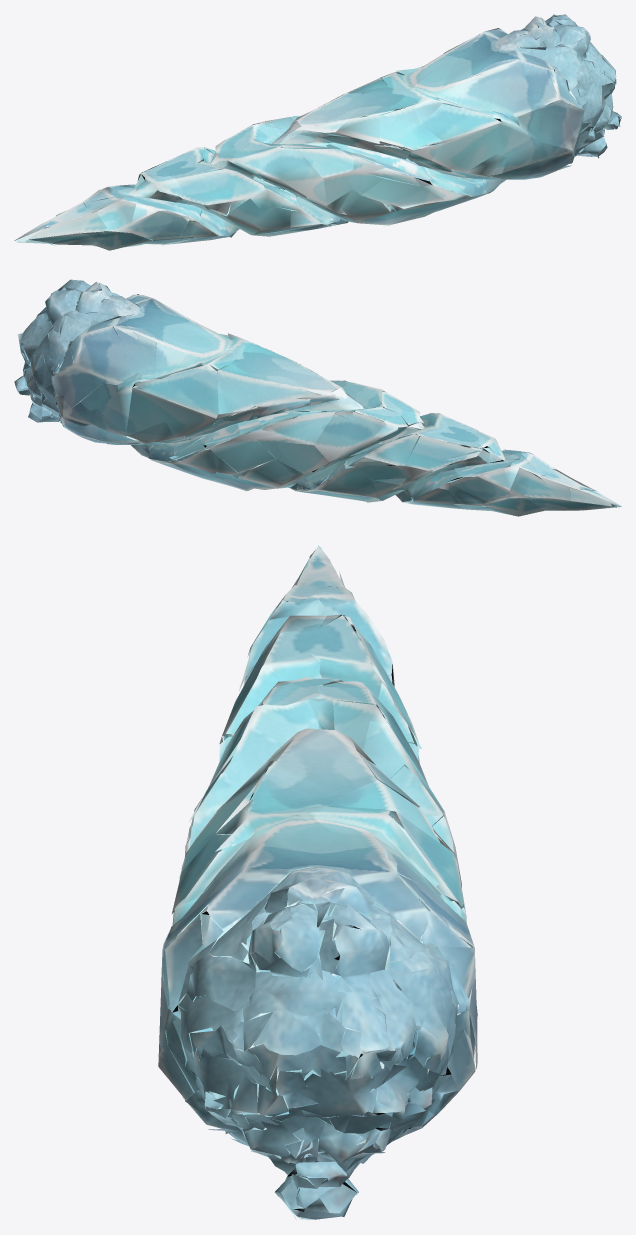
File: frost_icetusk_m.fbx
The picture shows the model from 3 angles, top to bottom: view 1: azimuth 30°, elevation 25°; view 2: azimuth 150°, elevation 25°; view 3: azimuth 270°, elevation 25°; orthographic projection. The views are drawn at different scales.
Parts seen in each view (by area): view 1: frost_icetusk_m; view 2: frost_icetusk_m; view 3: frost_icetusk_m.
Boxes of the visible parts, box(x1,y1,x2,y2) form: frost_icetusk_m: box(14, 14, 621, 250); frost_icetusk_m: box(14, 279, 621, 516); frost_icetusk_m: box(158, 545, 477, 1219).
Size of the model in its own units: 99.99 by 24.36 by 22.83.
Materials: 1 (1 with a texture image).
